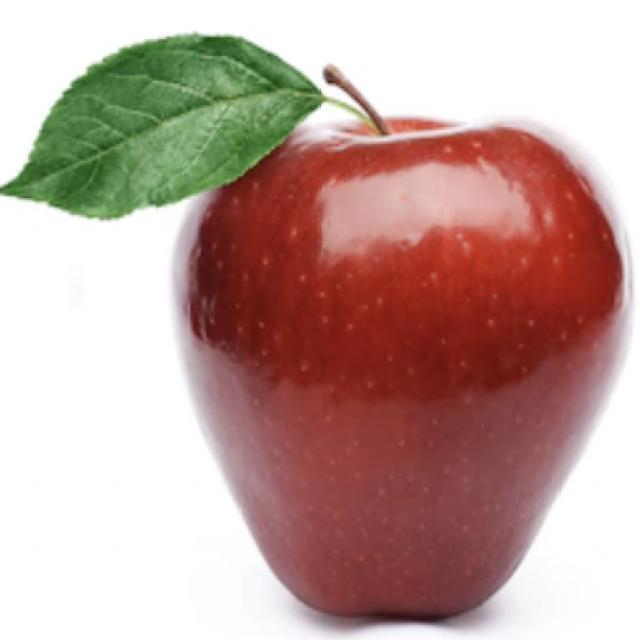Fresh Apple: (150, 120, 615, 623)
